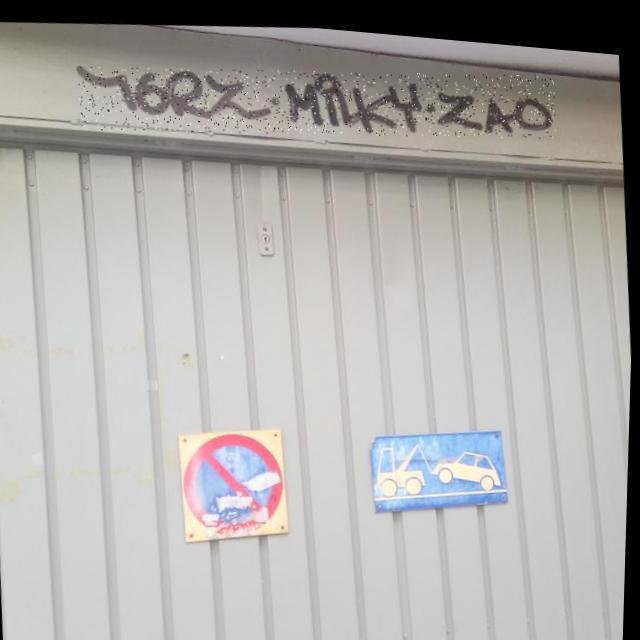-: (77, 32, 558, 161)
